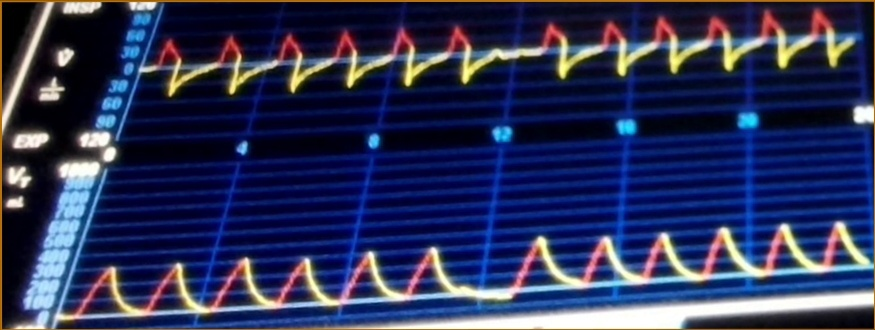Ineffective_effort Flow: (143, 8, 856, 101)
Ineffective_effort Volume: (72, 216, 871, 317)
